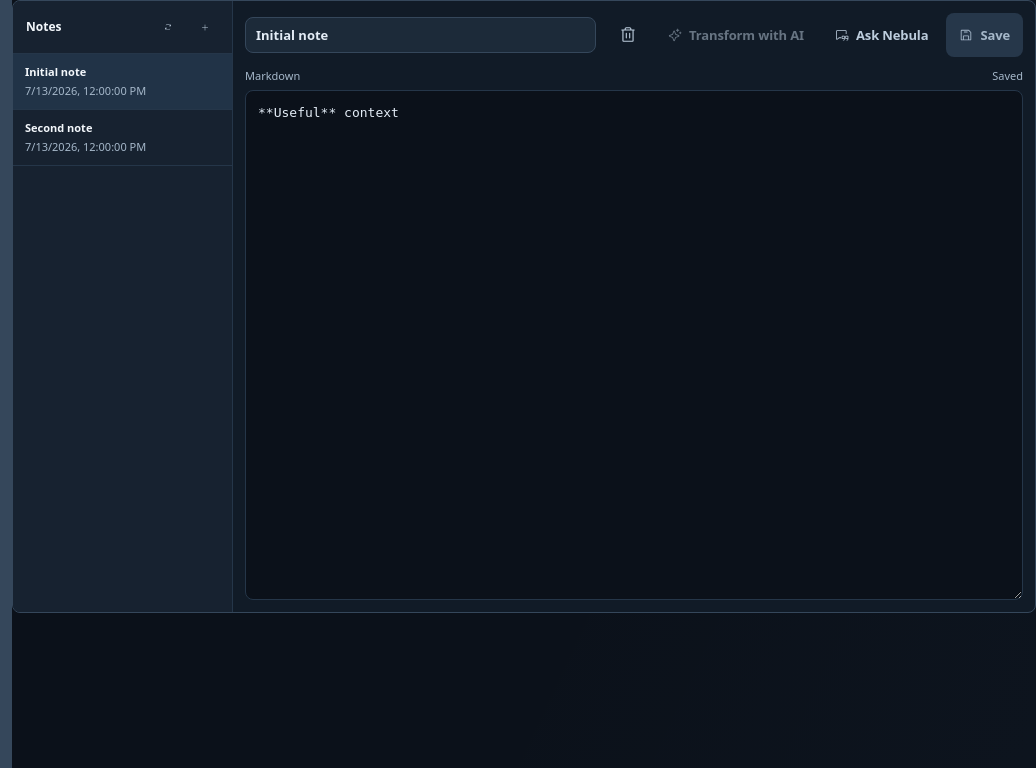
Test: NotesPanel › keeps the current note selected when more text arrives during a switch save
The image size is (1036, 768).
Replace the text in the text box named "Note body" with "First change" at [634, 345], box [245,90,1023,600]
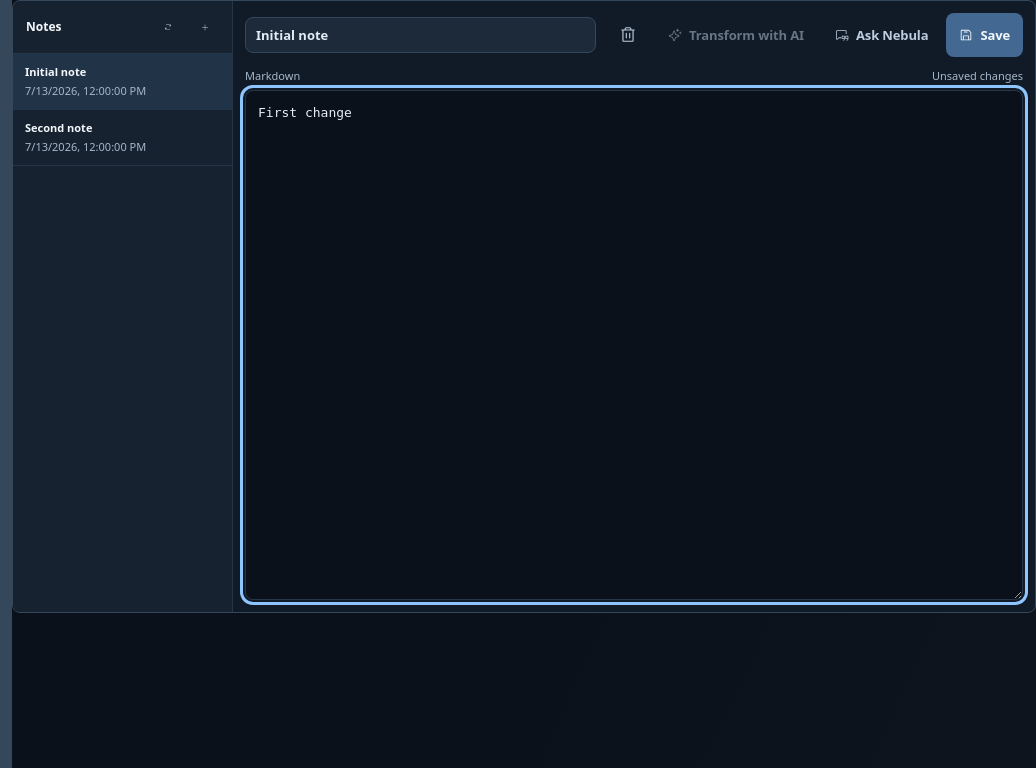
Click the button "Second note 7/13/2026, 12:00:00 PM" at [122, 138], box [13,110,232,166]
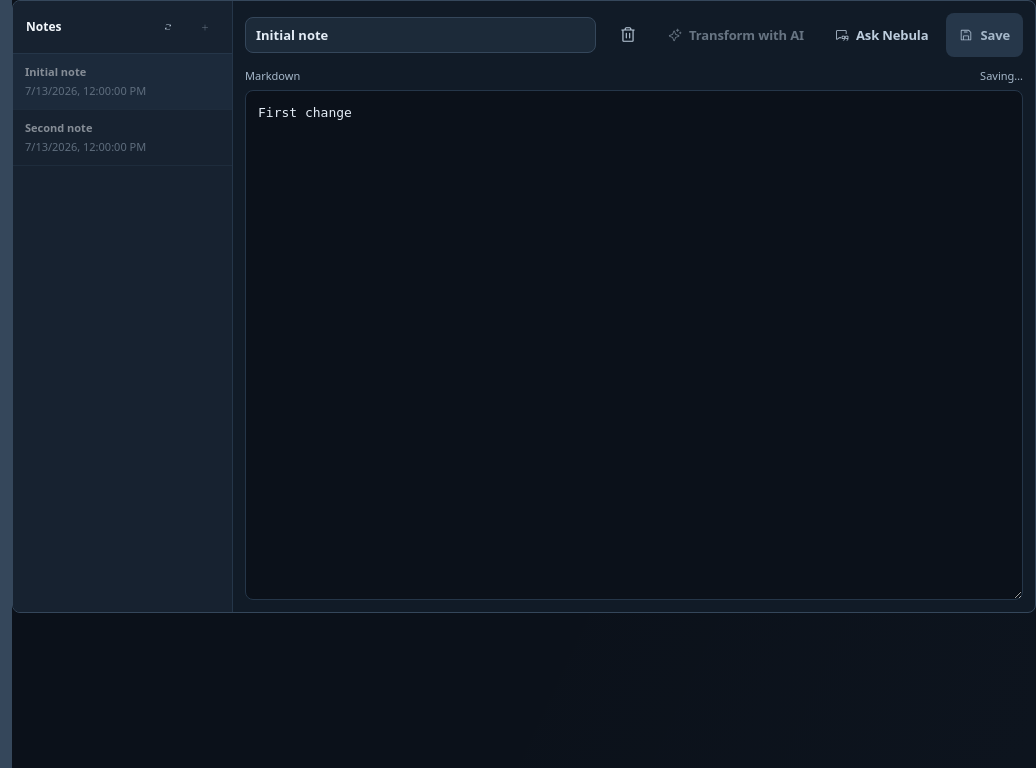
Type " later" into the text box named "Note body" at [634, 345], box [245,90,1023,600]
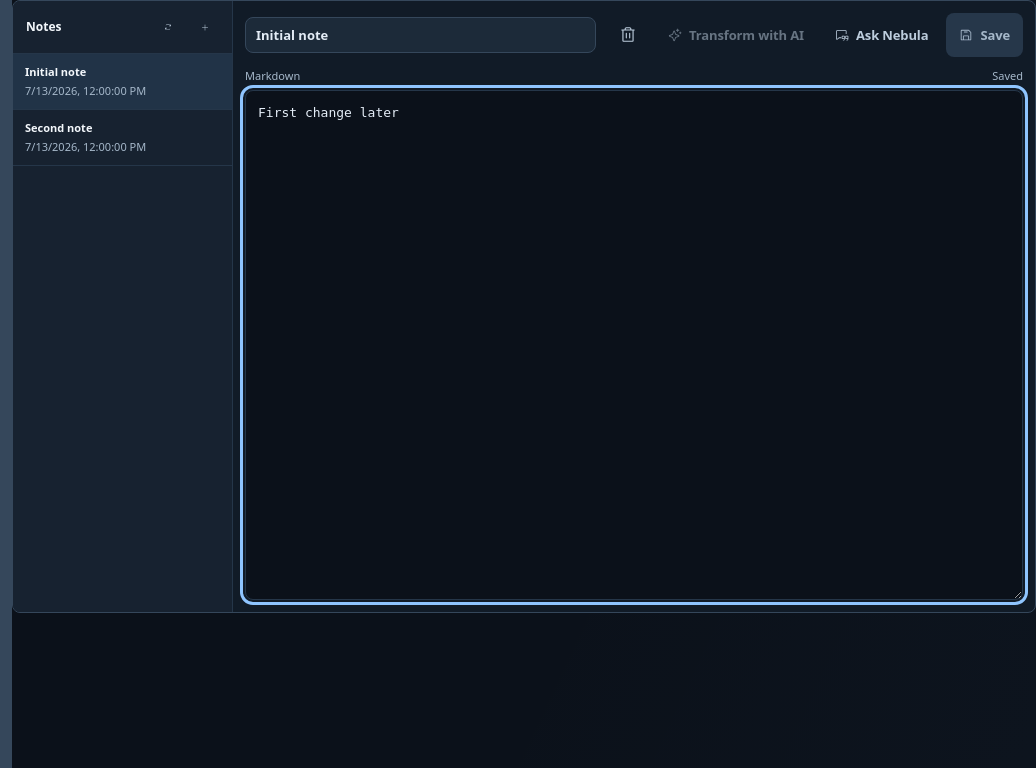
expect the text box named "Note body" holds "First change later": met, box [245,90,1023,600]
